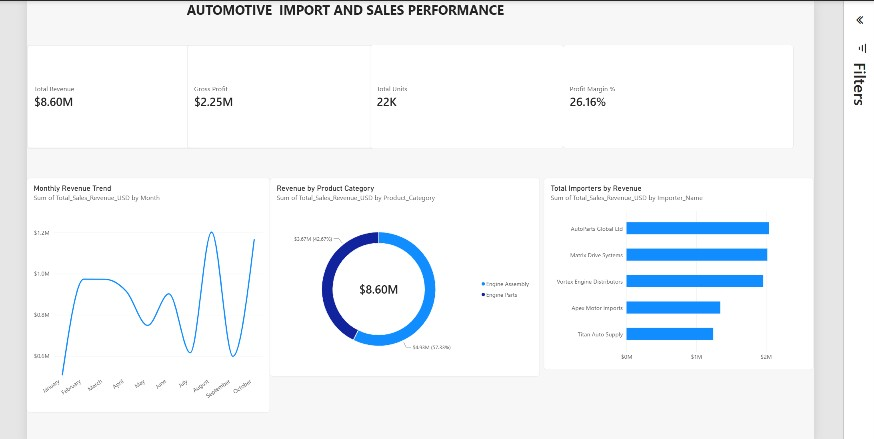

The dashboard page shown, as its layout file describes it:
{"tool":"powerbi","page":{"name":"Page 1","canvas":[1920,1080],"ordinal":0},"visuals":[{"type":"cardVisual","fields":{"Data":["Sum(Sheet1.Total_Sales_Revenue_USD)"]},"box":[0,107.3,424.4,253.7],"z":0},{"type":"cardVisual","fields":{"Data":["Sum(Sheet1.Gross_Profit_USD)"]},"box":[390.2,107.3,458.5,253.7],"z":1000},{"type":"cardVisual","fields":{"Data":["Sum(Sheet1.Quantity_Imported)"]},"box":[836.6,107.3,473.2,253.7],"z":2000},{"type":"lineChart","title":"Monthly Revenue Trend","fields":{"Category":["Sheet1.Import_Date.Variation.Date Hierarchy.Month"],"Y":["Sum(Sheet1.Total_Sales_Revenue_USD)"]},"box":[0,431.7,592.7,573.2],"z":3000},{"type":"donutChart","title":"Revenue by Product Category","fields":{"Category":["Sheet1.Product_Category"],"Y":["Sum(Sheet1.Total_Sales_Revenue_USD)"]},"box":[592.7,431.7,658.5,485.4],"z":4000},{"type":"clusteredBarChart","title":"Total Importers by Revenue","fields":{"Category":["Sheet1.Importer_Name"],"Y":["Sum(Sheet1.Total_Sales_Revenue_USD)"]},"box":[1261,431.7,658.5,468.3],"z":5000},{"type":"cardVisual","fields":{"Data":["Sheet1.Profit Margin %"]},"box":[1307.3,107.3,563.4,253.7],"z":6000},{"type":"textbox","box":[390.2,0,892.7,253.7],"z":6001}]}

Visuals, with their boxes on the page's 1920x1080 design canvas (x1, y1, x2, y2). These are canvas units, not pixel positions in the 874x439 screenshot, which may show the page scaled, cropped or inside an application window:
cardVisual - Sum(Sheet1.Total_Sales_Revenue_USD): Rect(0, 107, 424, 361)
cardVisual - Sum(Sheet1.Gross_Profit_USD): Rect(390, 107, 849, 361)
cardVisual - Sum(Sheet1.Quantity_Imported): Rect(837, 107, 1310, 361)
"Monthly Revenue Trend" lineChart: Rect(0, 432, 593, 1005)
"Revenue by Product Category" donutChart: Rect(593, 432, 1251, 917)
"Total Importers by Revenue" clusteredBarChart: Rect(1261, 432, 1920, 900)
cardVisual - Sheet1.Profit Margin %: Rect(1307, 107, 1871, 361)
textbox: Rect(390, 0, 1283, 254)
